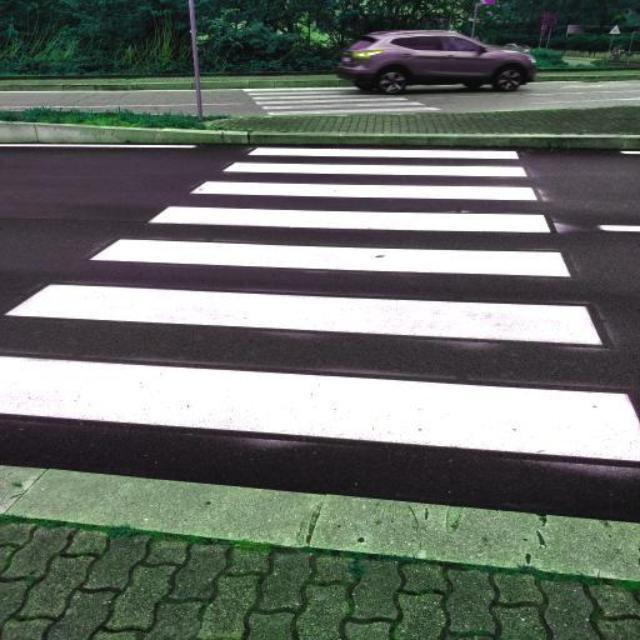sidewalk: (0, 144, 640, 469), (244, 78, 441, 115)
